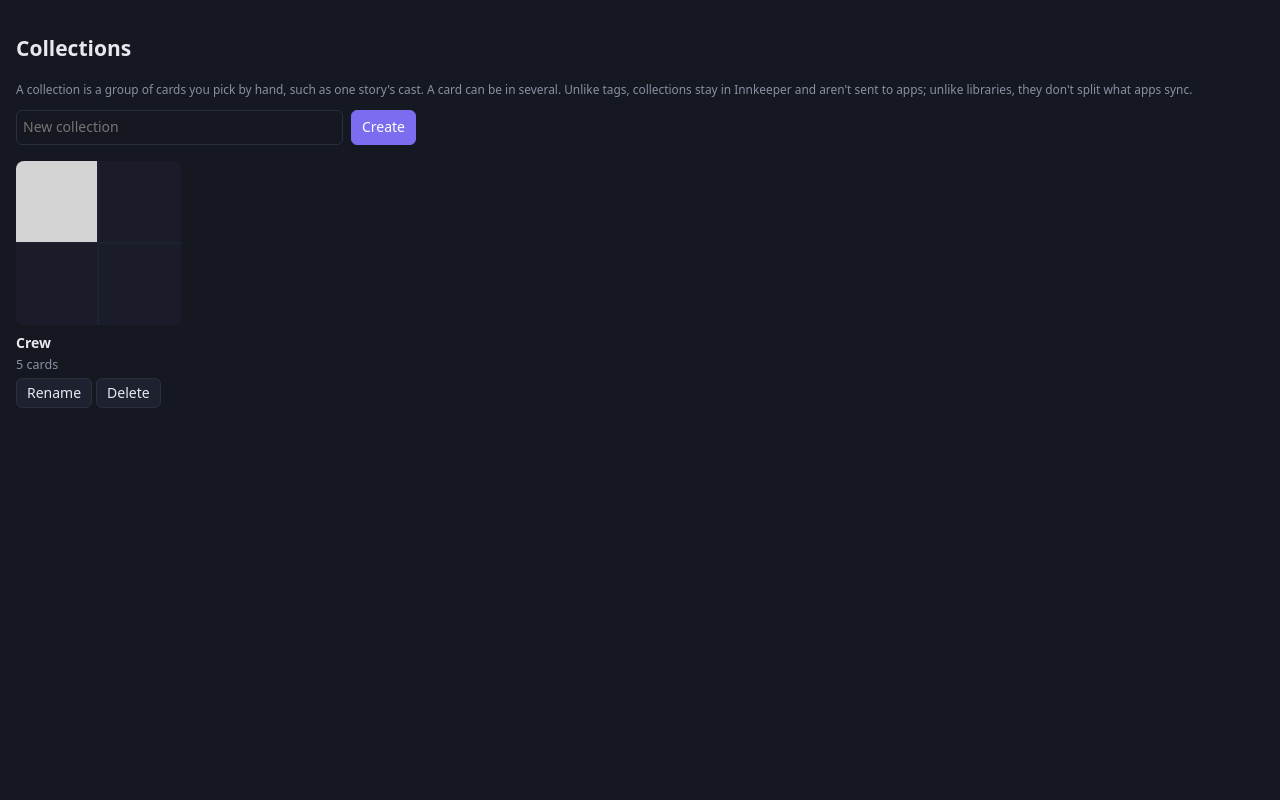
a refused create toasts its error
Type "Crew" into the field labelled "New collection" at x=179, y=128, box [16,110,343,145]
Then press Enter
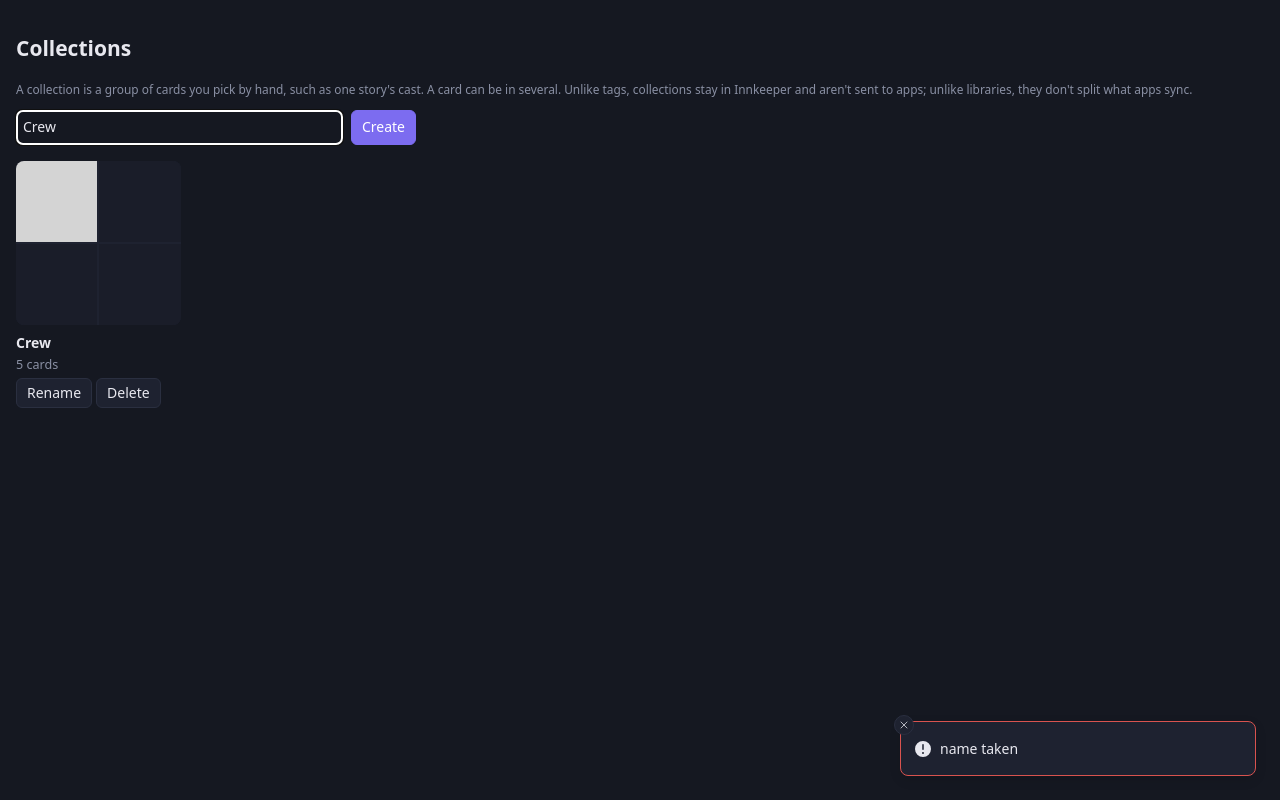
expect the text "name taken" is shown: met, box [940,738,1018,759]
